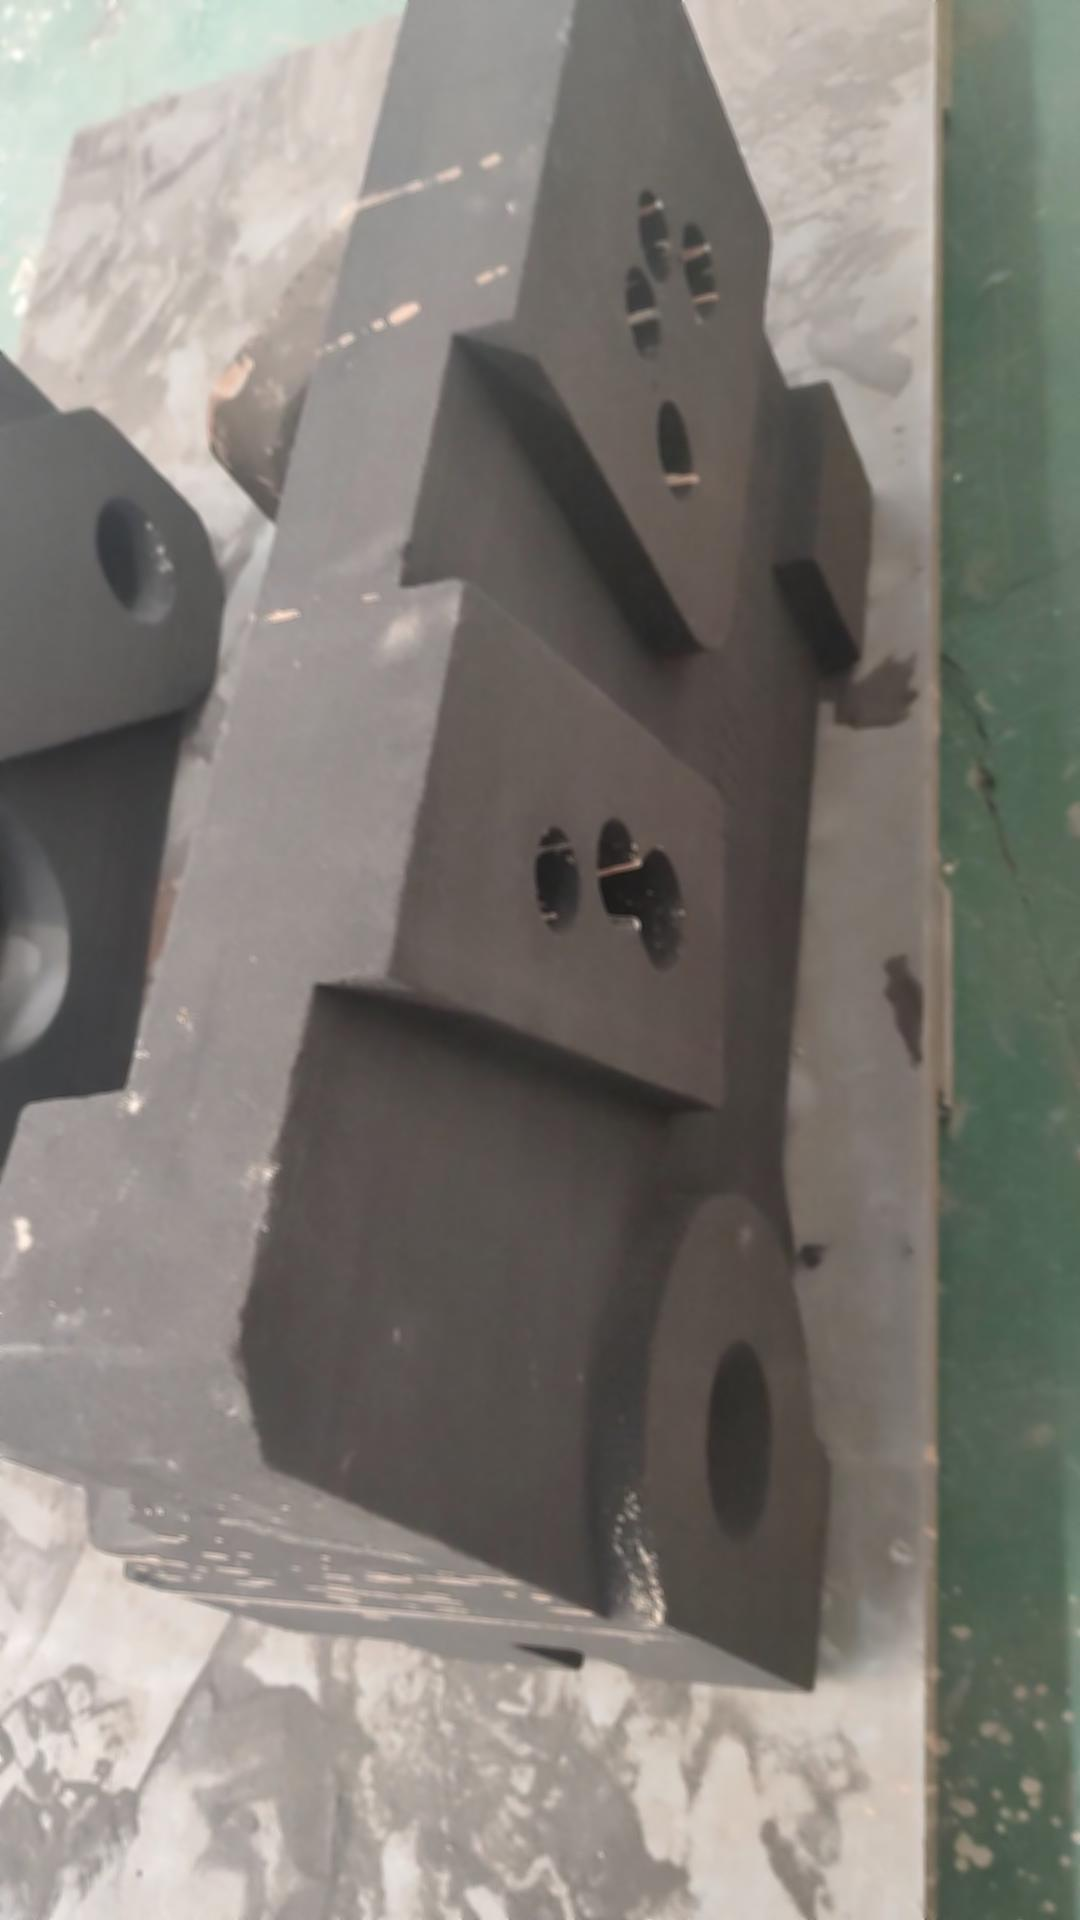pouring hole: (705, 1342, 773, 1542), (96, 495, 175, 624)
